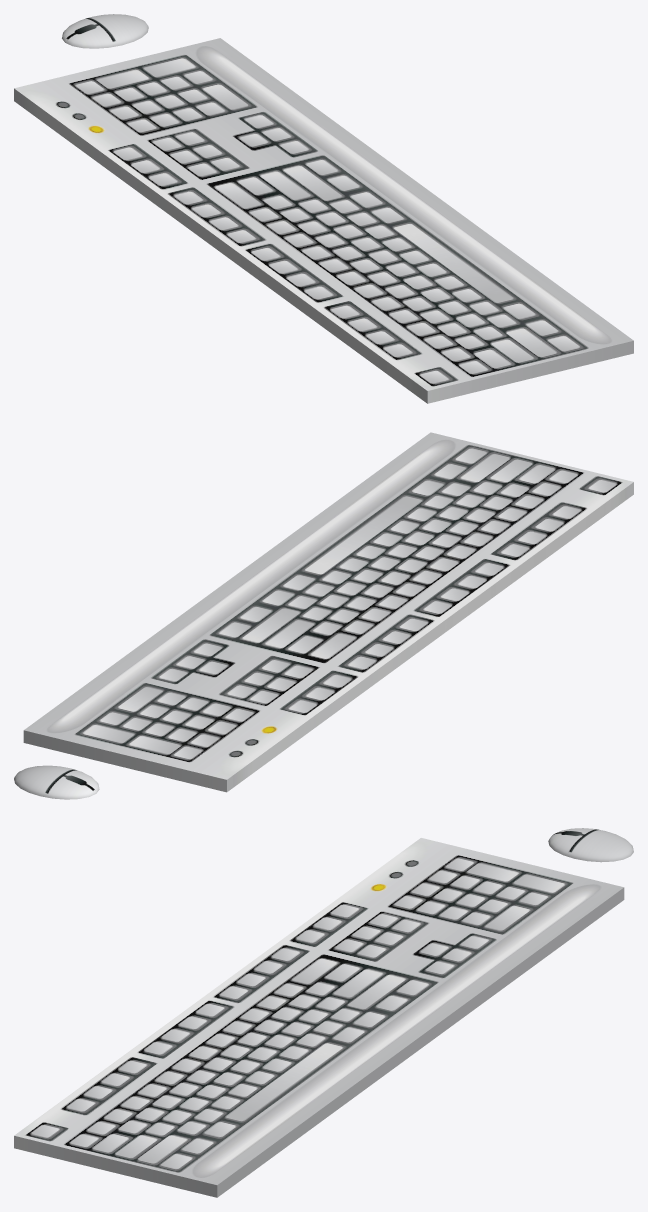
Rendered from tecladomouse.fbx.
3 renders of one model, top to bottom at view 1: azimuth 30°, elevation 25°; view 2: azimuth 150°, elevation 25°; view 3: azimuth 330°, elevation 25°, orthographic.
Visible parts, largest first — view 1: computadora:pasted__pCube11, computadora:pasted__pSphere1; view 2: computadora:pasted__pCube11, computadora:pasted__pSphere1; view 3: computadora:pasted__pCube11, computadora:pasted__pSphere1.
Part boxes in pixels (bbox=[...]): computadora:pasted__pCube11: bbox=[14, 38, 633, 403]; computadora:pasted__pSphere1: bbox=[62, 14, 148, 48]; computadora:pasted__pCube11: bbox=[23, 432, 633, 792]; computadora:pasted__pSphere1: bbox=[14, 765, 99, 799]; computadora:pasted__pCube11: bbox=[14, 838, 624, 1197]; computadora:pasted__pSphere1: bbox=[548, 828, 633, 862].
Bounding box in the file's own units: 2.02 × 0.1535 × 7.97.
